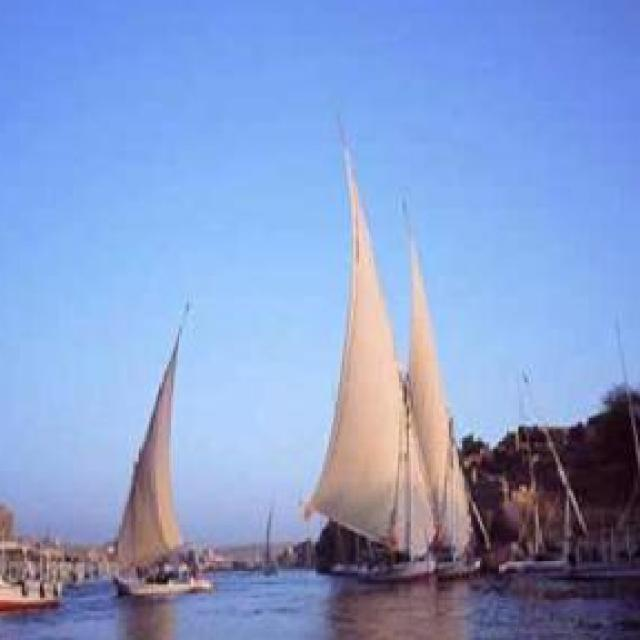sailboat: (300, 114, 444, 591), (107, 281, 202, 617)
